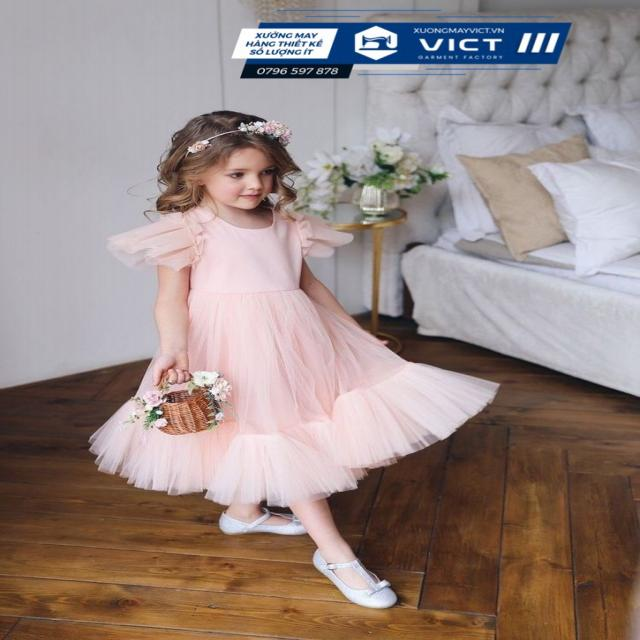clothes: (109, 200, 390, 505)
